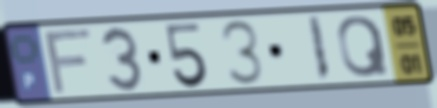3: (219, 17, 266, 88), (99, 24, 144, 95)
5: (162, 20, 209, 90)
F: (41, 25, 96, 98)
I: (305, 14, 333, 84)
Q: (335, 13, 392, 80)
